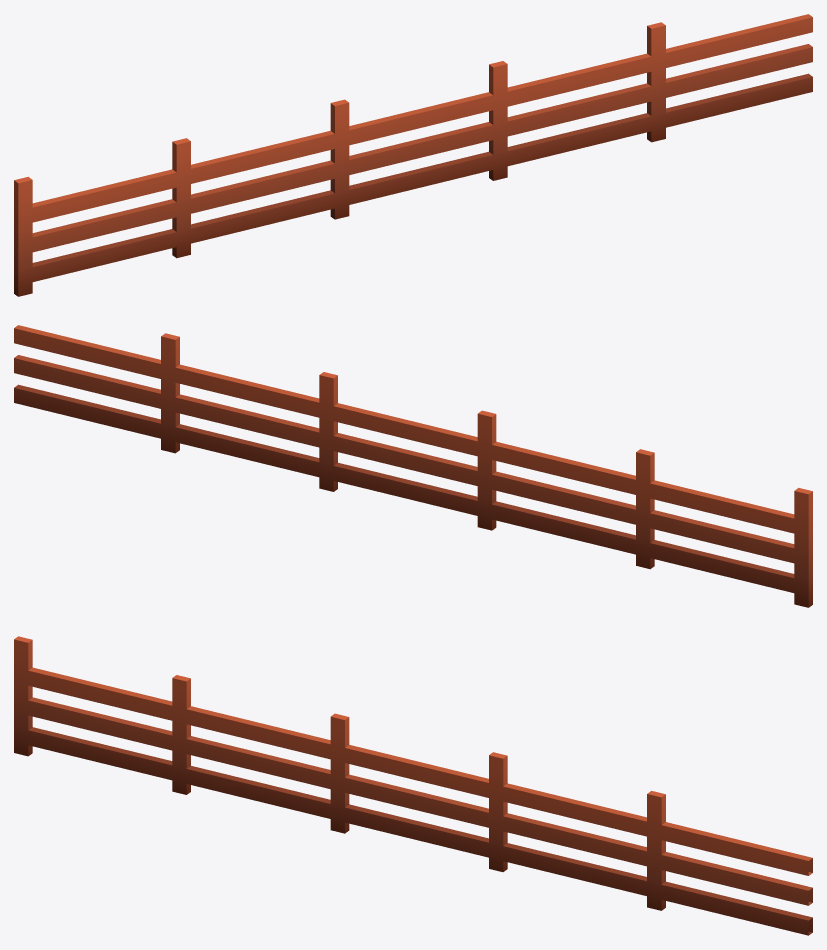
File: big_fence_sm.obj
3 renders of one model, top to bottom at view 1: azimuth 30°, elevation 25°; view 2: azimuth 150°, elevation 25°; view 3: azimuth 330°, elevation 25°, orthographic.
Parts seen in each view (by area): view 1: big_fence_sm; view 2: big_fence_sm; view 3: big_fence_sm.
Part boxes in pixels (x1,y1,x2,y2): big_fence_sm: (14, 14, 812, 296); big_fence_sm: (14, 325, 812, 607); big_fence_sm: (14, 636, 812, 935).
Size of the model in its own units: 10.63 by 1.45 by 0.1003.
